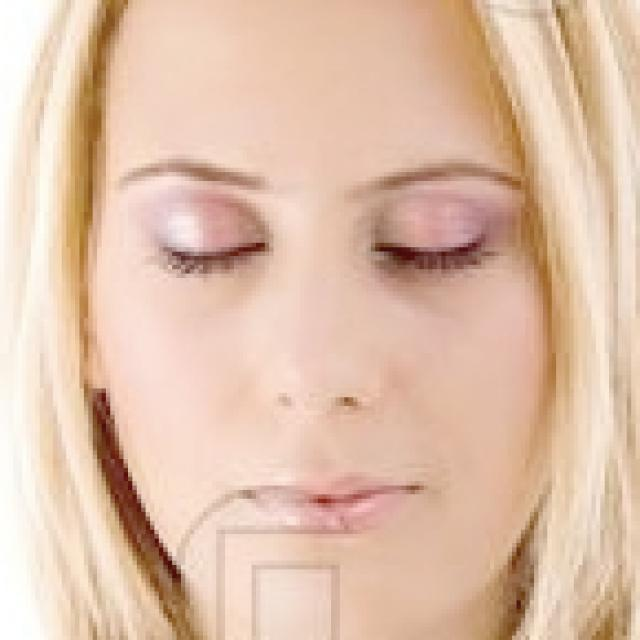sleepy: (104, 138, 541, 572)
